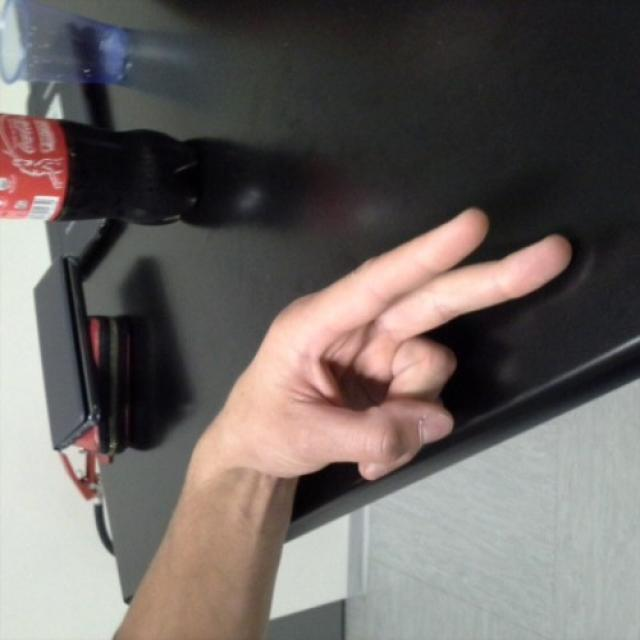scissors: (228, 206, 571, 482)
